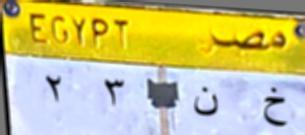2: (45, 70, 66, 103)
3: (102, 74, 129, 111)
khaa: (254, 85, 289, 134)
noon: (193, 83, 222, 122)
